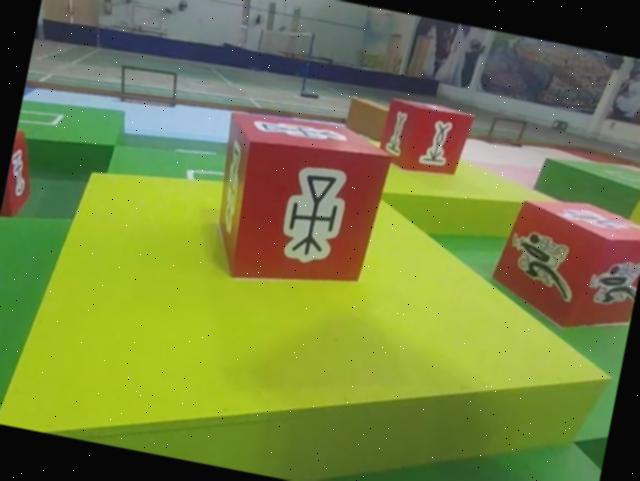R1: (483, 183, 640, 340)
R2 Real: (197, 99, 397, 306), (374, 89, 479, 184), (0, 125, 42, 232)
